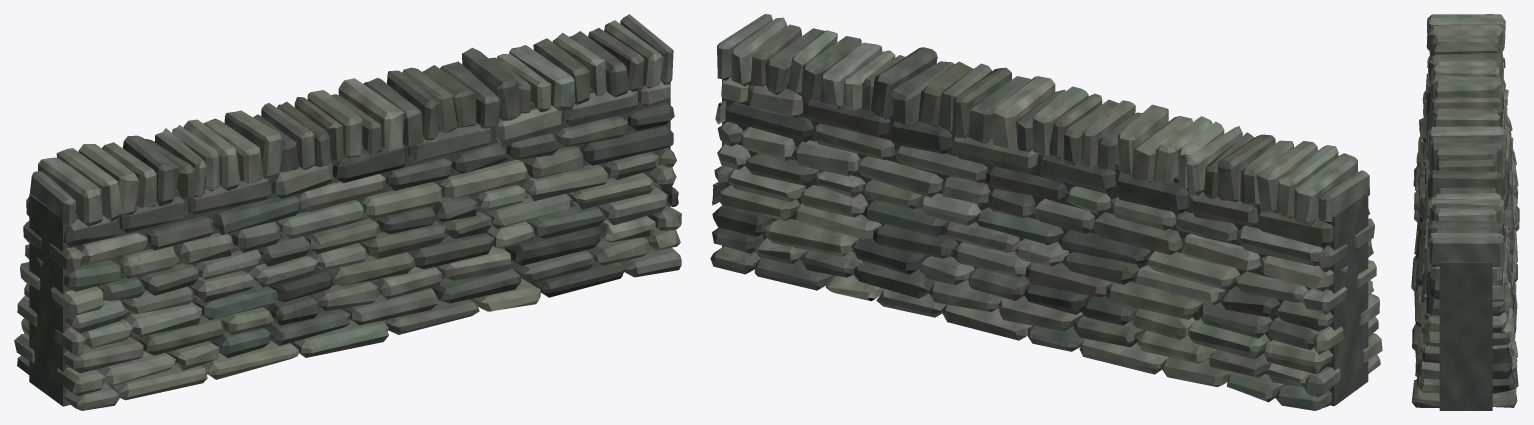
File: kit_drystone_wall_4m.glb
3 renders of one model, left to right at view 1: azimuth 30°, elevation 25°; view 2: azimuth 150°, elevation 25°; view 3: azimuth 270°, elevation 25°, orthographic. The views are drawn at different scales.
Visible parts, largest first — view 1: kit_drystone_wall_4m-col; view 2: kit_drystone_wall_4m-col; view 3: kit_drystone_wall_4m-col.
Part boxes in pixels (bbox=[...]): kit_drystone_wall_4m-col: bbox=[14, 14, 681, 410]; kit_drystone_wall_4m-col: bbox=[710, 14, 1382, 410]; kit_drystone_wall_4m-col: bbox=[1411, 14, 1519, 410].
Bounding box in the file's own units: 4.02 × 1.41 × 0.7829.
1 material, 1 textured.
